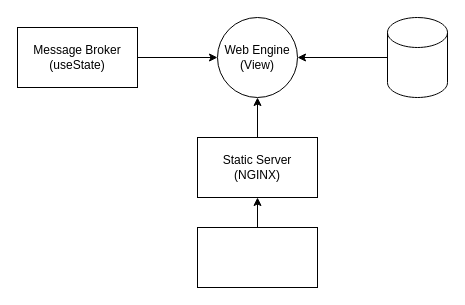
Some shapes in this 465 by 305 pixel diagram are drawn without their labels. The centre of each missing label's shape, as x and y in pixels:
Client: point (257, 257)
Data Source (JSON): point (417, 57)
